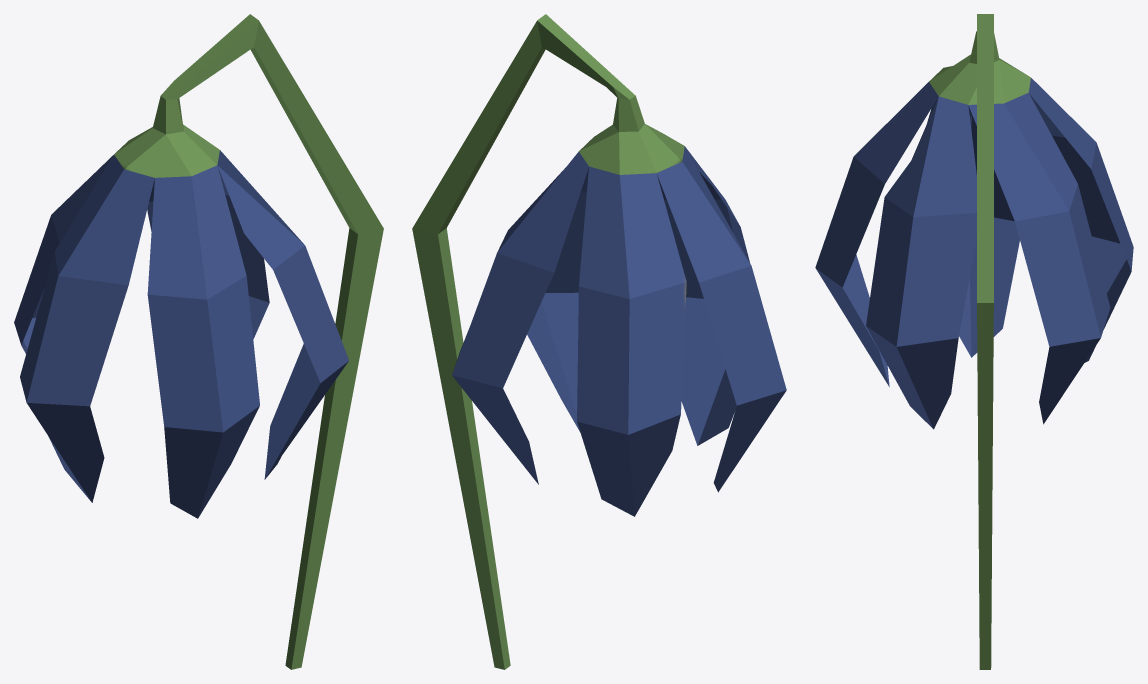
Rendered from Flor 2.fbx.
3 renders of one model, left to right at view 1: azimuth 30°, elevation 25°; view 2: azimuth 150°, elevation 25°; view 3: azimuth 270°, elevation 25°, orthographic. The views are drawn at different scales.
Visible parts, largest first — view 1: 5. Flower 2 ( ver 2); view 2: 5. Flower 2 ( ver 2); view 3: 5. Flower 2 ( ver 2).
Part boxes in pixels (left/top/right/bottom): 5. Flower 2 ( ver 2): left=14, top=14, right=383, bottom=669; 5. Flower 2 ( ver 2): left=412, top=14, right=786, bottom=669; 5. Flower 2 ( ver 2): left=815, top=14, right=1133, bottom=669.
Size of the model in its own units: 49.39 by 85.99 by 39.06.
